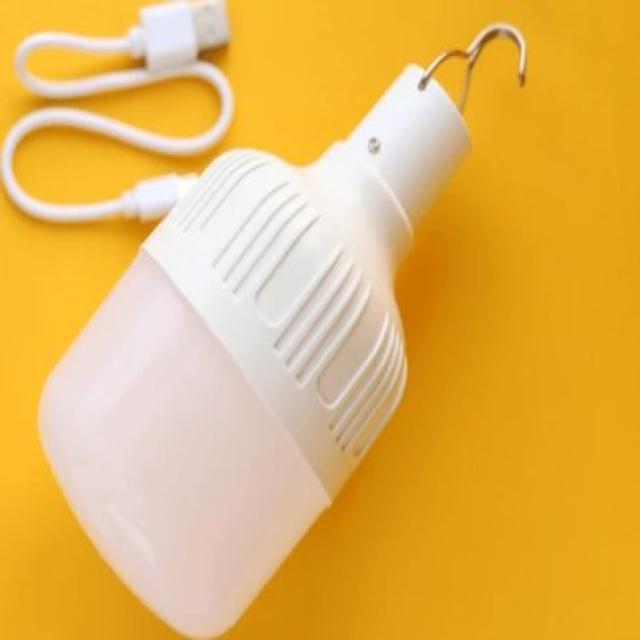electronic: (34, 19, 527, 638)
